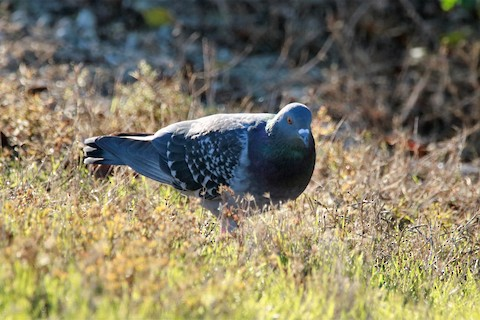pigeon: (78, 99, 318, 237)
